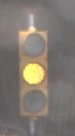Yellow: (13, 15, 51, 122)
